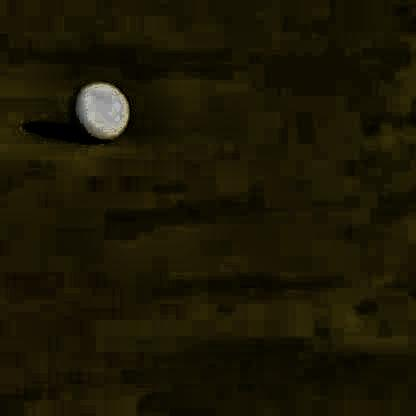golfball: (69, 73, 128, 138)
